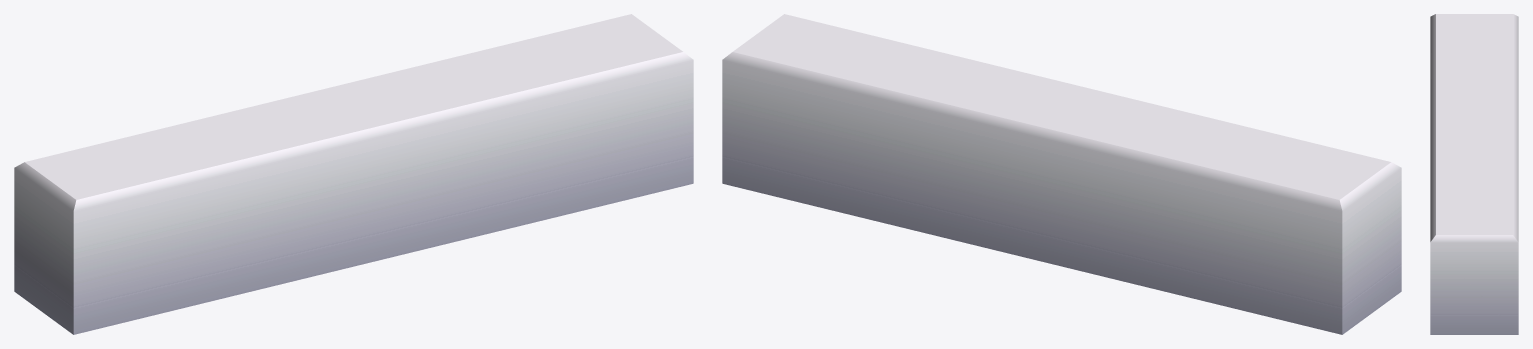
The model's file is none-hq-brick-1x6.glb.
3 views of the same model, side by side, from view 1: azimuth 30°, elevation 25°; view 2: azimuth 150°, elevation 25°; view 3: azimuth 270°, elevation 25° (orthographic). The views are drawn at different scales.
Visible parts, largest first — view 1: none-hq-brick-1x6; view 2: none-hq-brick-1x6; view 3: none-hq-brick-1x6.
Boxes of the visible parts, bbox=[...] form: none-hq-brick-1x6: bbox=[14, 14, 693, 334]; none-hq-brick-1x6: bbox=[722, 14, 1401, 334]; none-hq-brick-1x6: bbox=[1430, 14, 1518, 334].
Bounding box in the file's own units: 0.477 × 0.096 × 0.079.
Materials: 1 (1 with a texture image).
